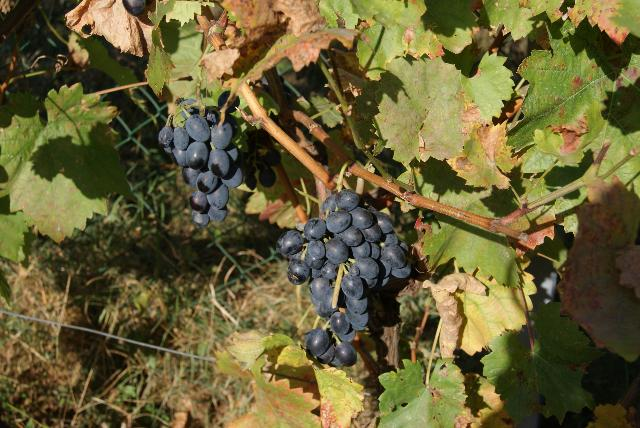grapes: (276, 189, 411, 368), (159, 108, 242, 228)
